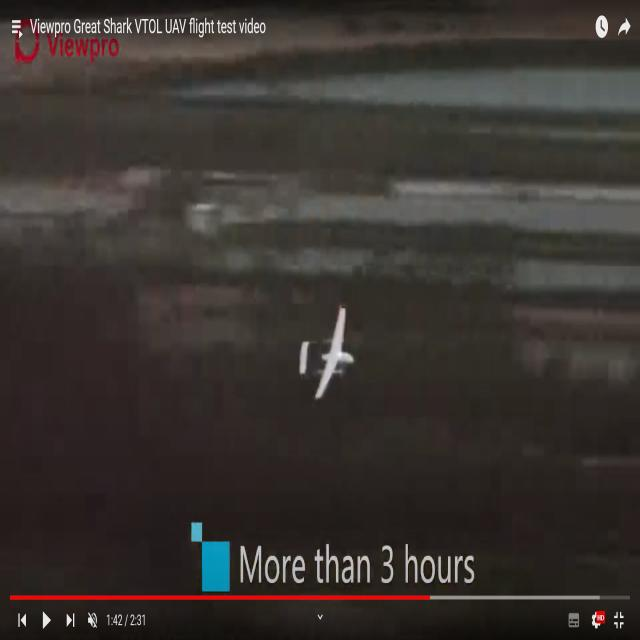iha: (292, 337, 348, 365)
